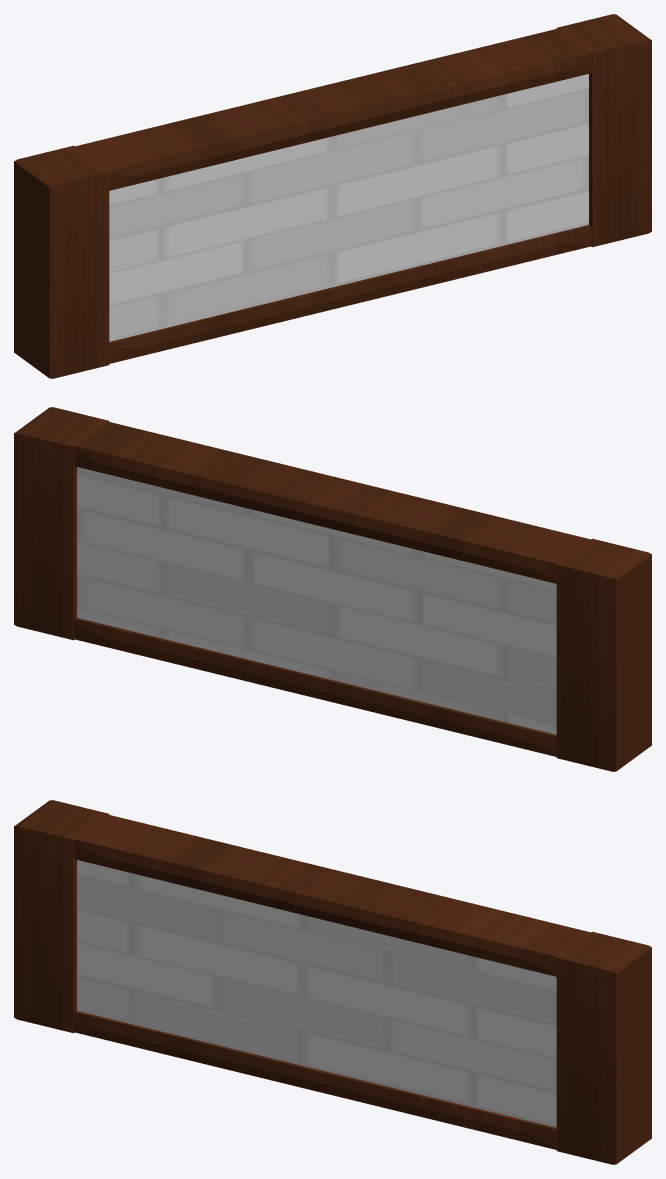
The model's file is Half_Half_Wall_Brick.fbx.
3 views of the same model, one above another, from view 1: azimuth 30°, elevation 25°; view 2: azimuth 150°, elevation 25°; view 3: azimuth 330°, elevation 25° (orthographic).
Visible parts, largest first — view 1: Half_Half_Wall; view 2: Half_Half_Wall; view 3: Half_Half_Wall.
Part boxes in pixels (<box>): Half_Half_Wall: <box>14,14,651,378</box>; Half_Half_Wall: <box>14,407,651,771</box>; Half_Half_Wall: <box>14,800,651,1164</box>.
Bounding box in the file's own units: 212 × 64.99 × 23.4.
